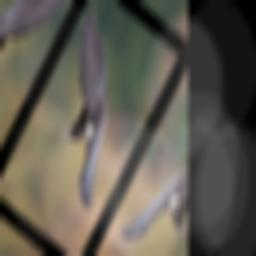Crow: (17, 0, 167, 214)
